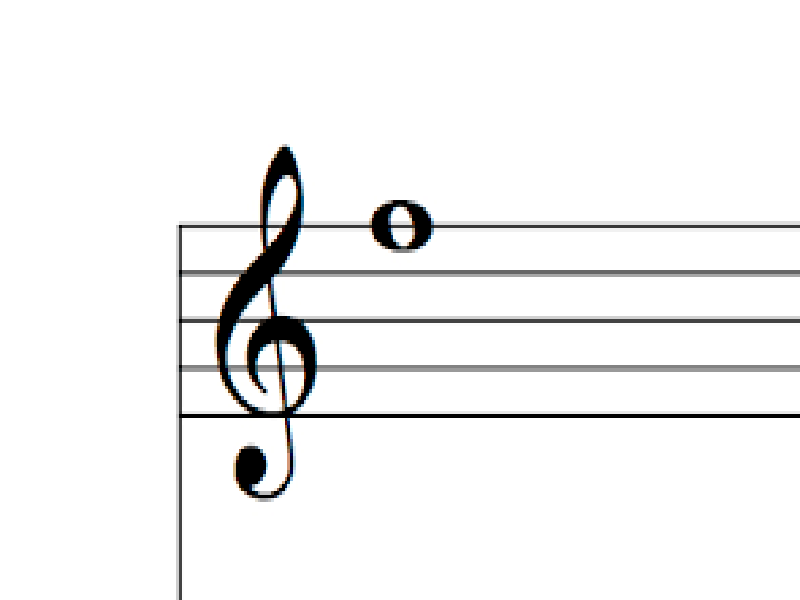CS: (217, 147, 318, 504)
R: (371, 202, 437, 255)
